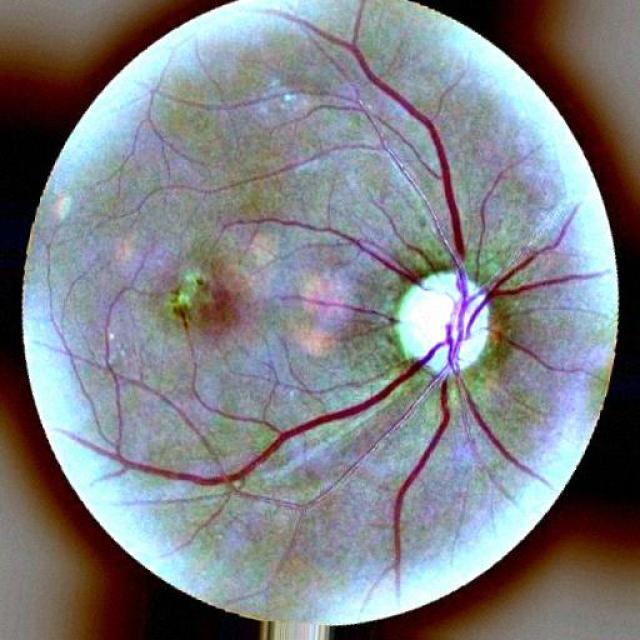Macula: (176, 269, 258, 355)
Nerves: (79, 326, 535, 575), (340, 36, 473, 318)
Optic Disk: (388, 266, 498, 381)
